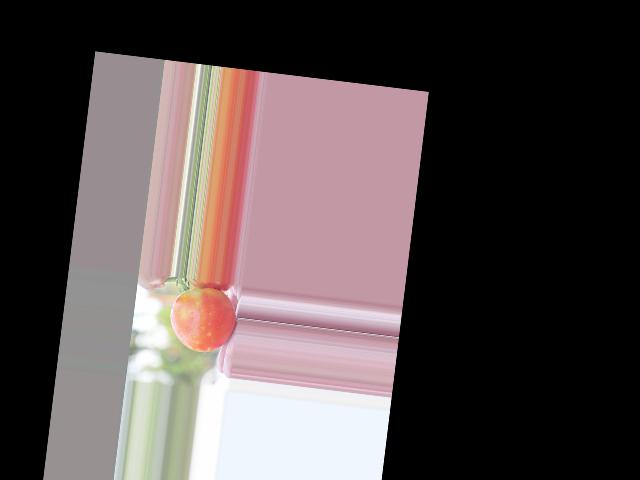tomato: (166, 284, 238, 355)
